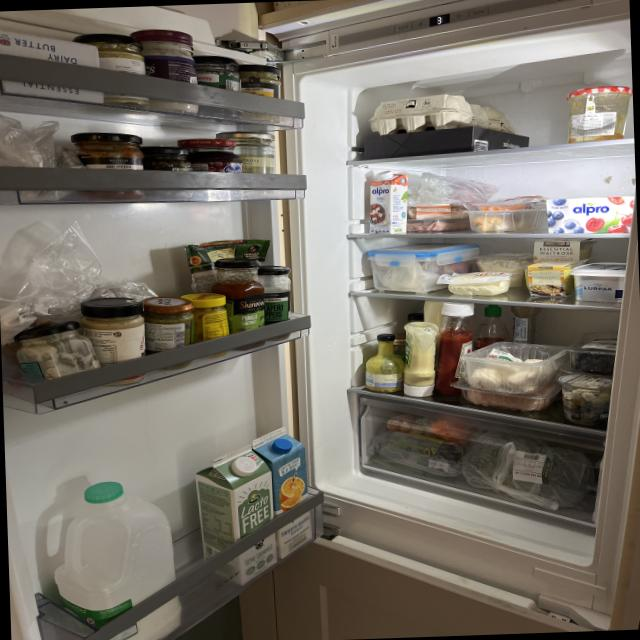Brocoli: (471, 426, 587, 508)
Carne cerdo: (407, 218, 468, 232)
Champiñones: (466, 347, 551, 387)
Huevos: (374, 96, 476, 130)
Leche: (53, 498, 178, 640), (198, 466, 272, 578)
Mantequilla: (0, 29, 105, 106), (575, 266, 626, 301)
